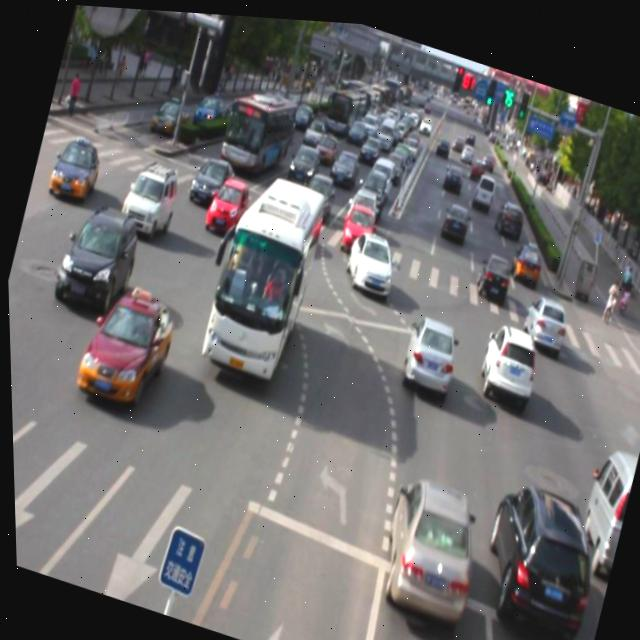car: (464, 465, 607, 640), (366, 462, 487, 621), (69, 273, 179, 414), (48, 192, 143, 318), (471, 310, 541, 400), (115, 151, 183, 241), (395, 304, 461, 390), (337, 225, 398, 298), (200, 167, 251, 237), (186, 150, 234, 211), (518, 285, 567, 343)
truck: (567, 434, 638, 566)
van: (190, 157, 328, 382)
